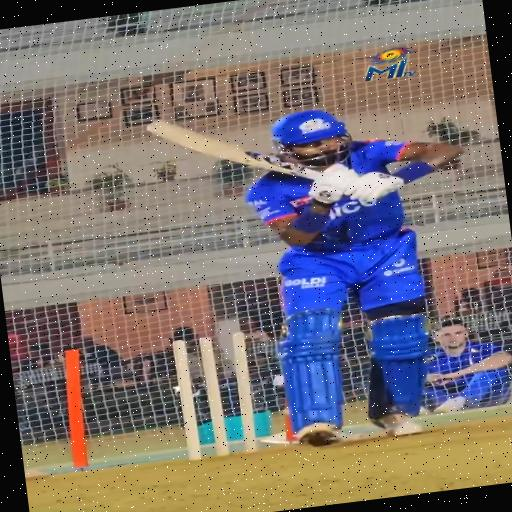Cricket bat: (147, 120, 319, 180)
